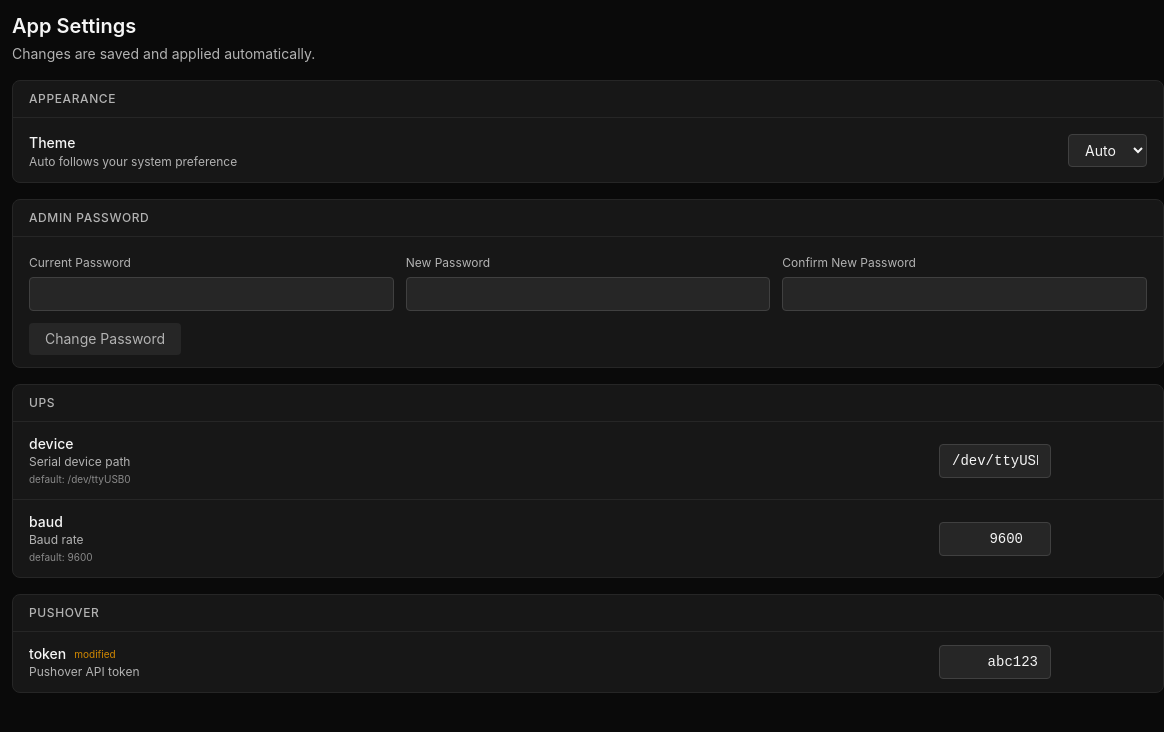
Scenario: AppConfig › password change validates minimum length
Expected: the button "Change Password" is shown, top-left (29, 323), bottom-right (181, 355)
In the password field below "Current Password": [211, 294] box top-left (29, 277), bottom-right (394, 311), type "old"
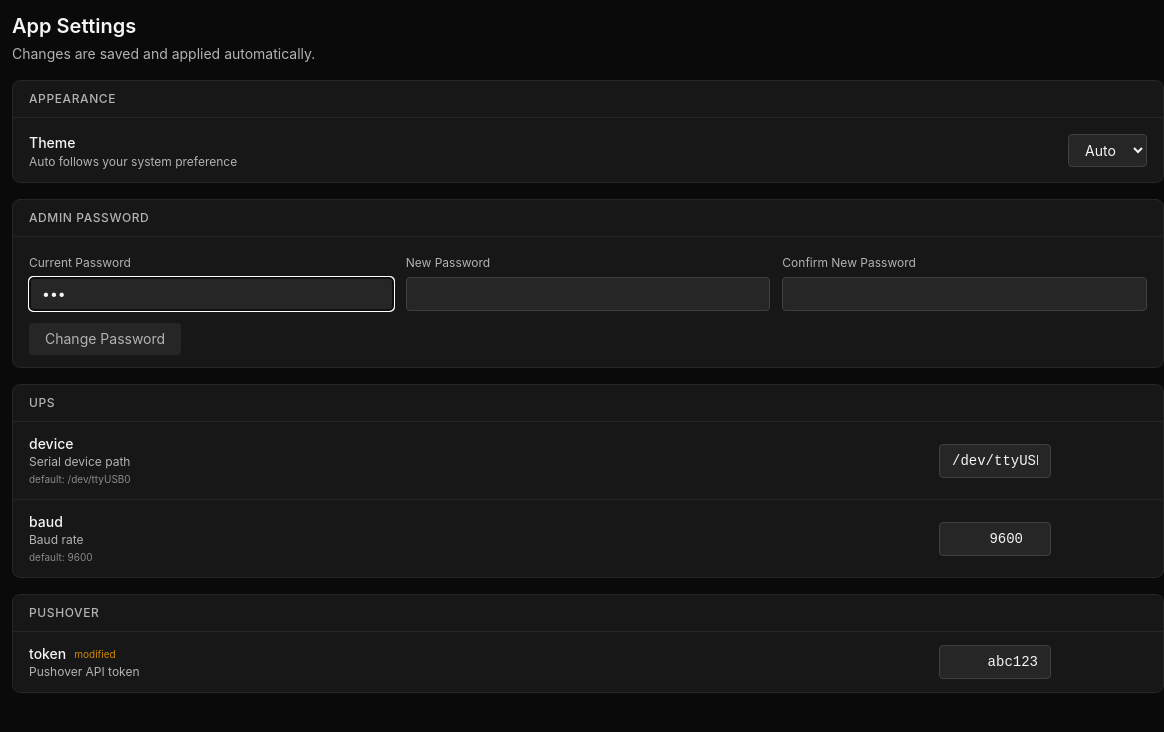
In the 2nd password field: [588, 294] box top-left (406, 277), bottom-right (770, 311), type "ab"
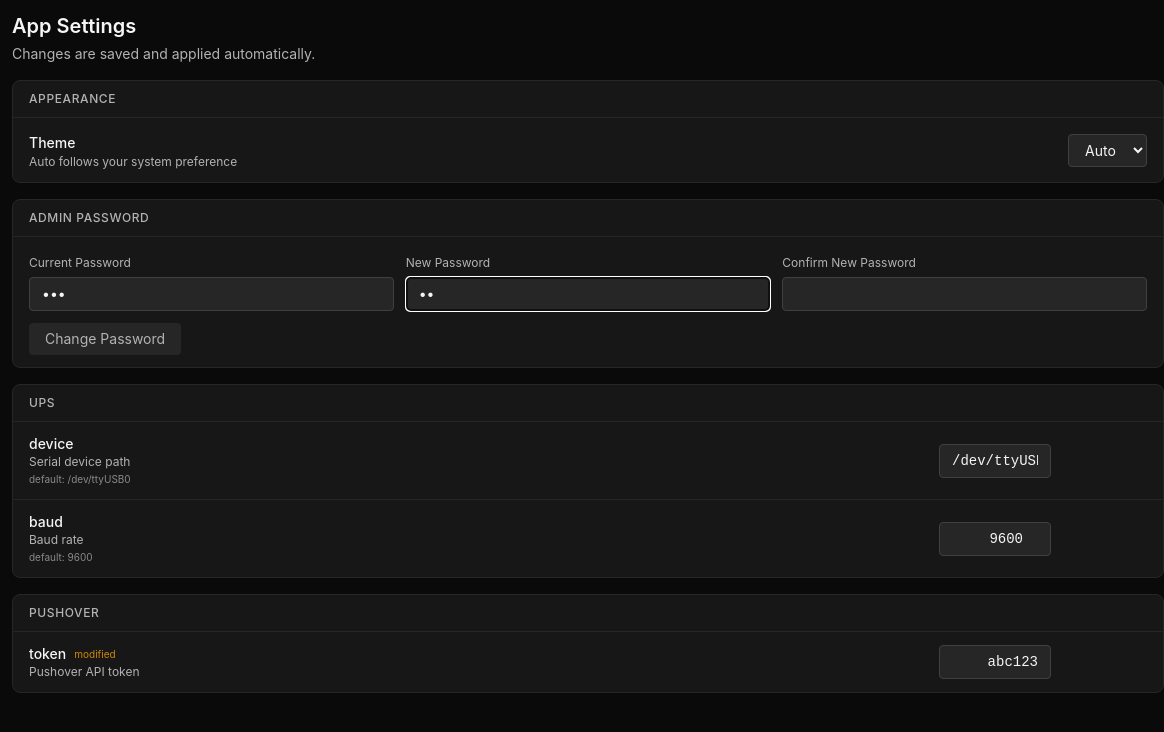
In the password field below "Confirm New Password": [965, 294] box top-left (782, 277), bottom-right (1147, 311), type "ab"
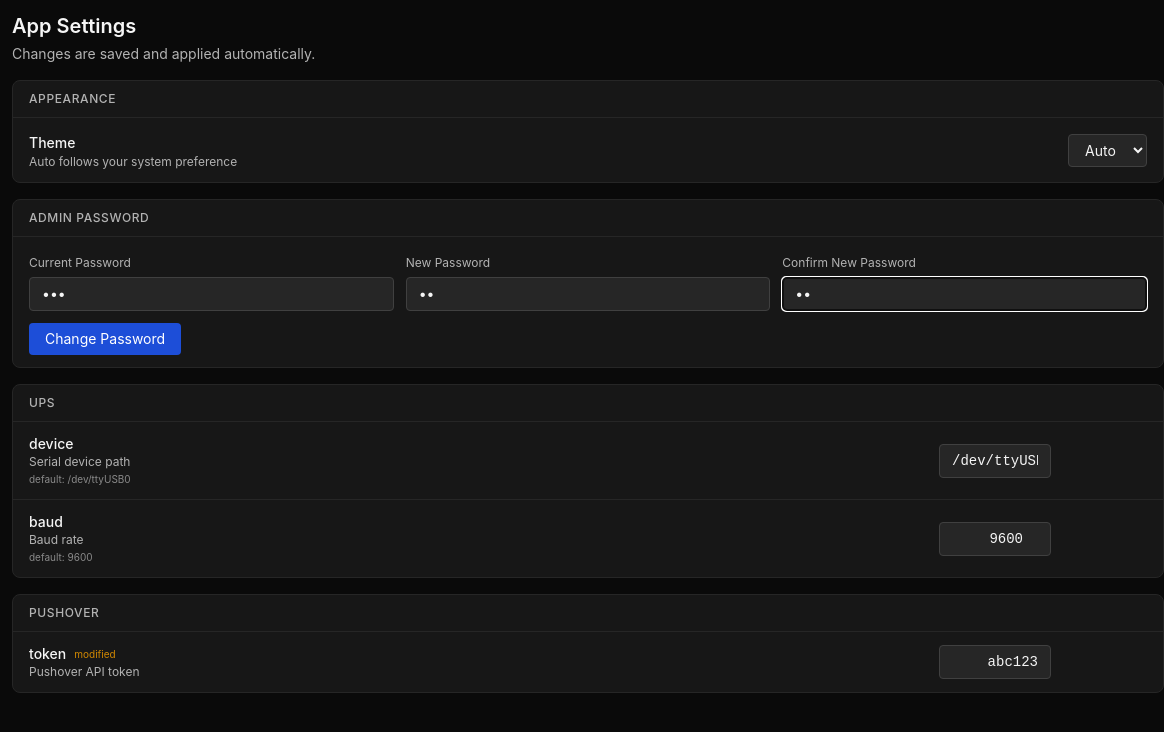
Click the button "Change Password": [105, 339] box top-left (29, 323), bottom-right (181, 355)
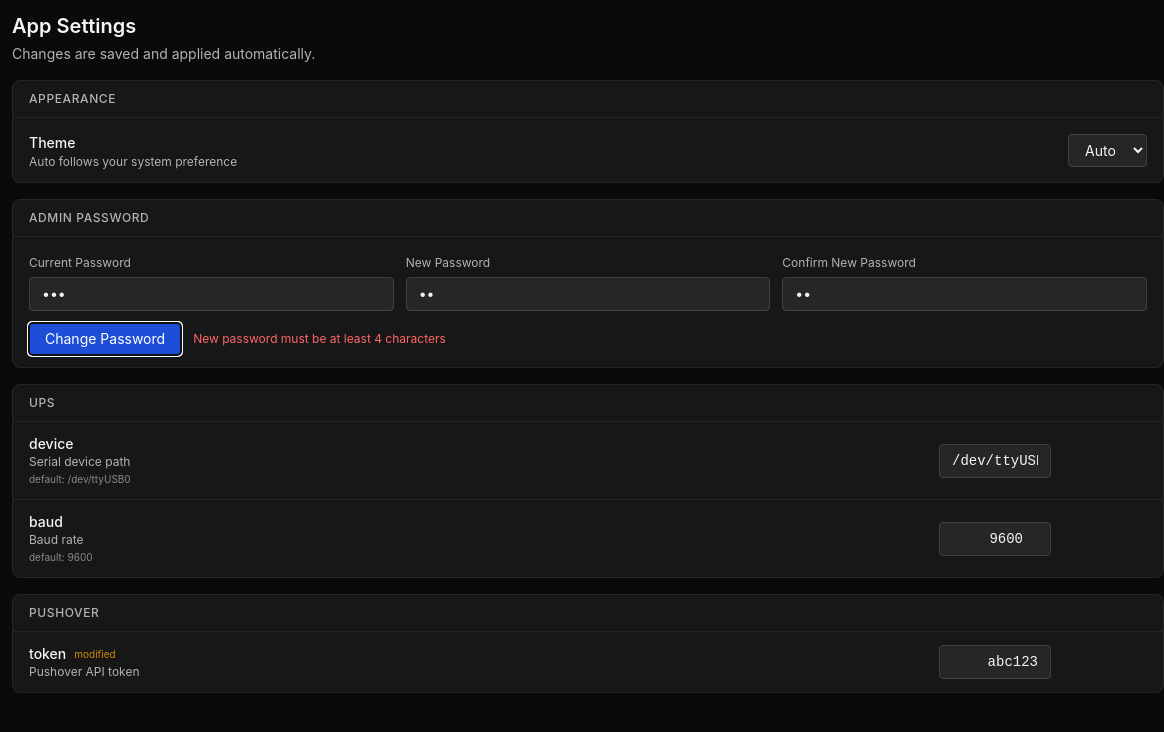
Result: the text "New password must be at least 4 characters" is shown at top-left (193, 331), bottom-right (446, 347)
